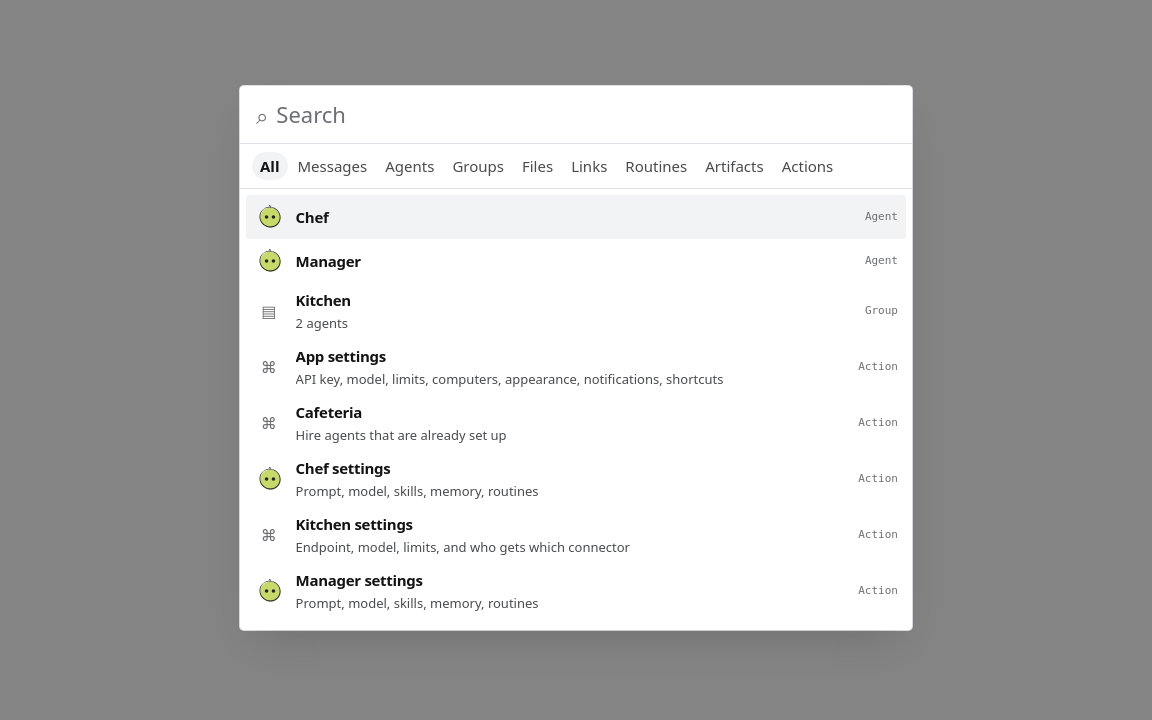
Test case: Search › says so when nothing matches, rather than looking broken
Type "nothing here by that name" into the field named "search the workspace" at (586, 115), box [276,98,896,131]
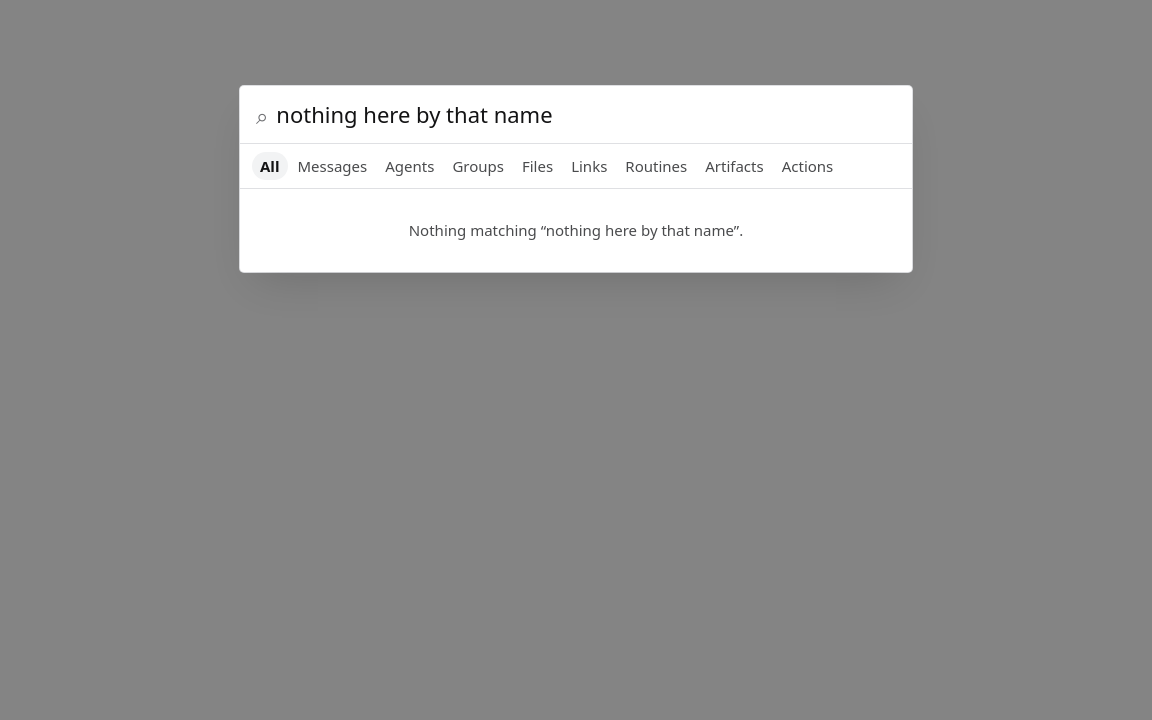
Expected: the text "Nothing matching “nothing here by that name”." is shown, [409,220,743,240]
